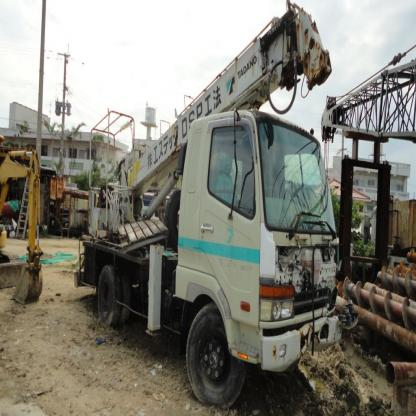truck: (75, 1, 346, 405)
